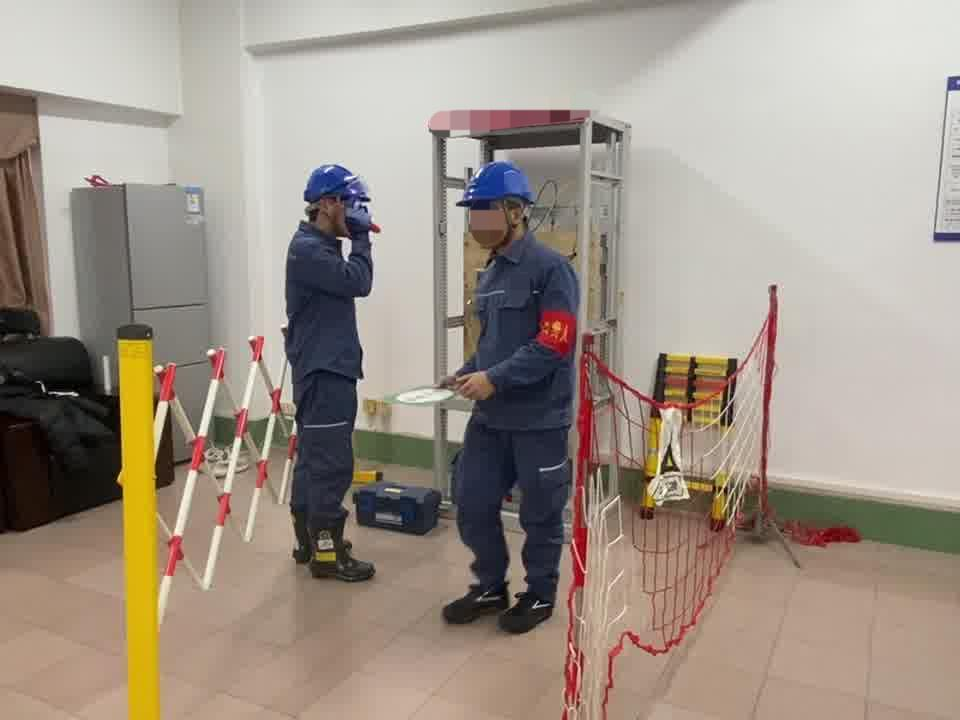halt: (461, 162, 541, 252), (303, 166, 372, 237)
inear: (501, 199, 530, 237), (316, 197, 344, 231)
